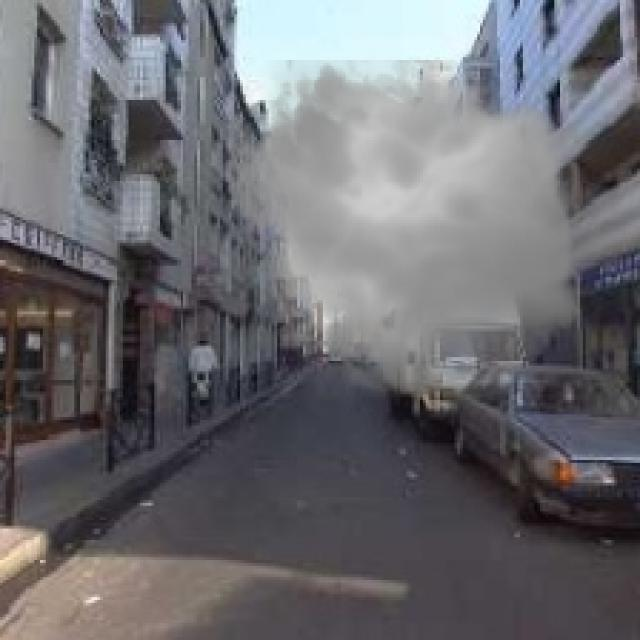Smoke: (215, 42, 600, 408)
